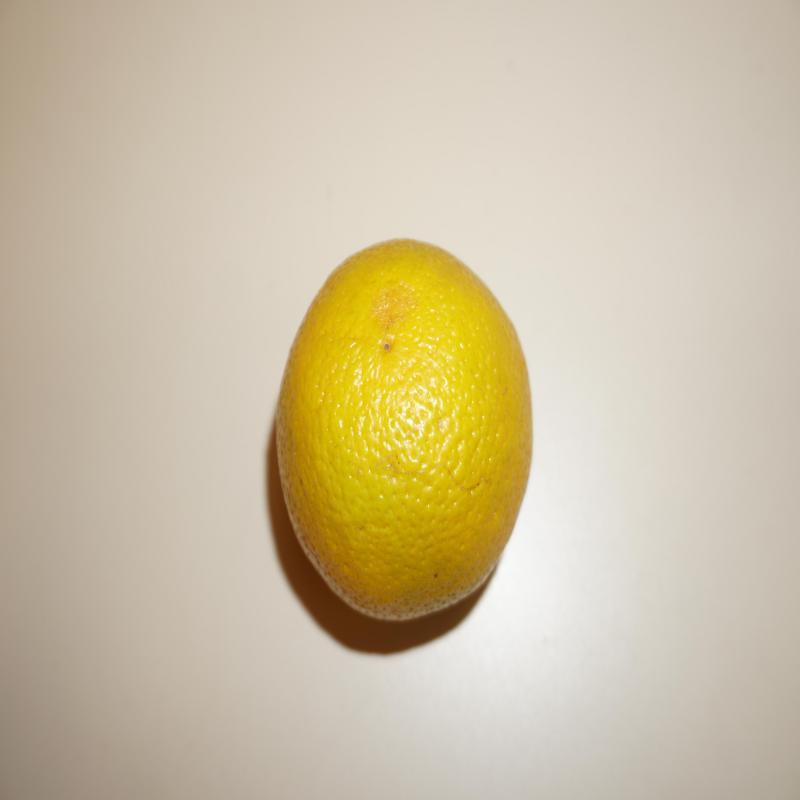Orange: (272, 239, 534, 626)
